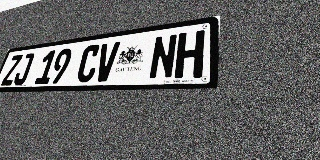1: (34, 50, 58, 84)
9: (48, 48, 73, 84)
C: (75, 44, 101, 83)
H: (174, 30, 205, 79)
J: (12, 53, 35, 85)
N: (148, 33, 178, 80)
V: (93, 41, 120, 82)
Z: (1, 54, 23, 86)
